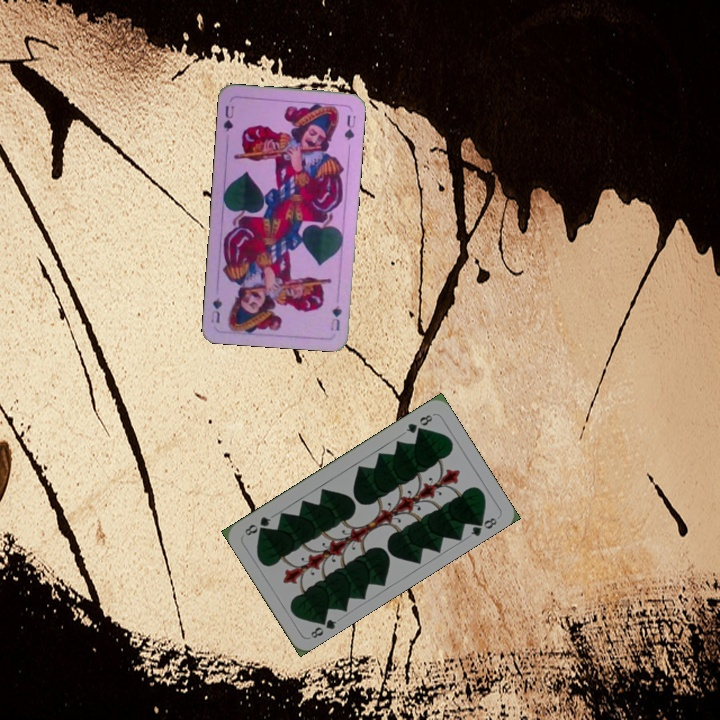G8: (306, 612, 339, 641), (402, 410, 435, 436)
GU: (219, 101, 236, 135), (326, 302, 344, 333)
